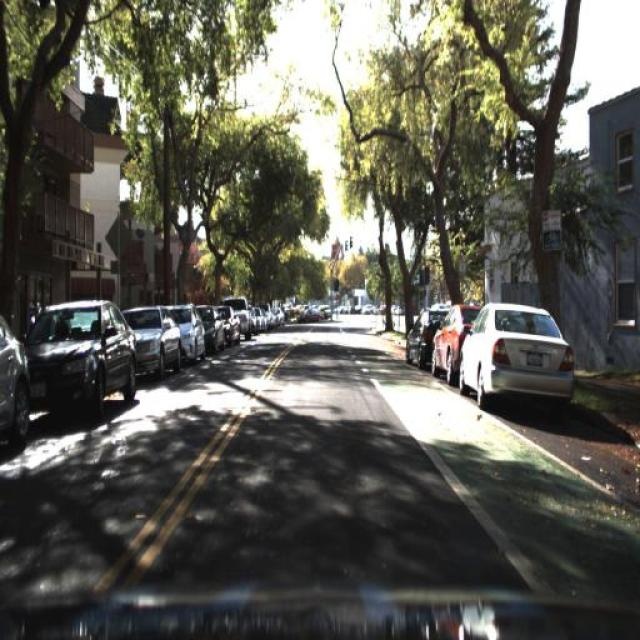car: (22, 296, 136, 426), (457, 302, 577, 407), (120, 306, 184, 382), (0, 308, 31, 459), (428, 303, 487, 382), (172, 298, 207, 367), (405, 311, 437, 370), (197, 302, 225, 356), (212, 299, 242, 342), (226, 294, 252, 340)
